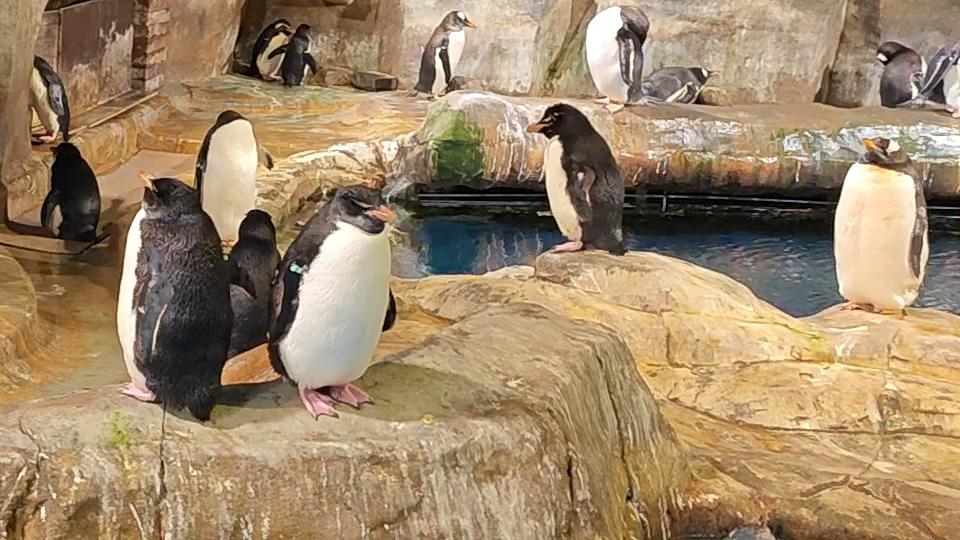Southern Rockhopper Penguin: (272, 184, 409, 426), (114, 169, 230, 427), (517, 96, 640, 263), (217, 210, 293, 355), (193, 104, 275, 238), (36, 139, 111, 246), (16, 47, 74, 145), (871, 36, 931, 118), (269, 19, 323, 93), (249, 16, 293, 81)
